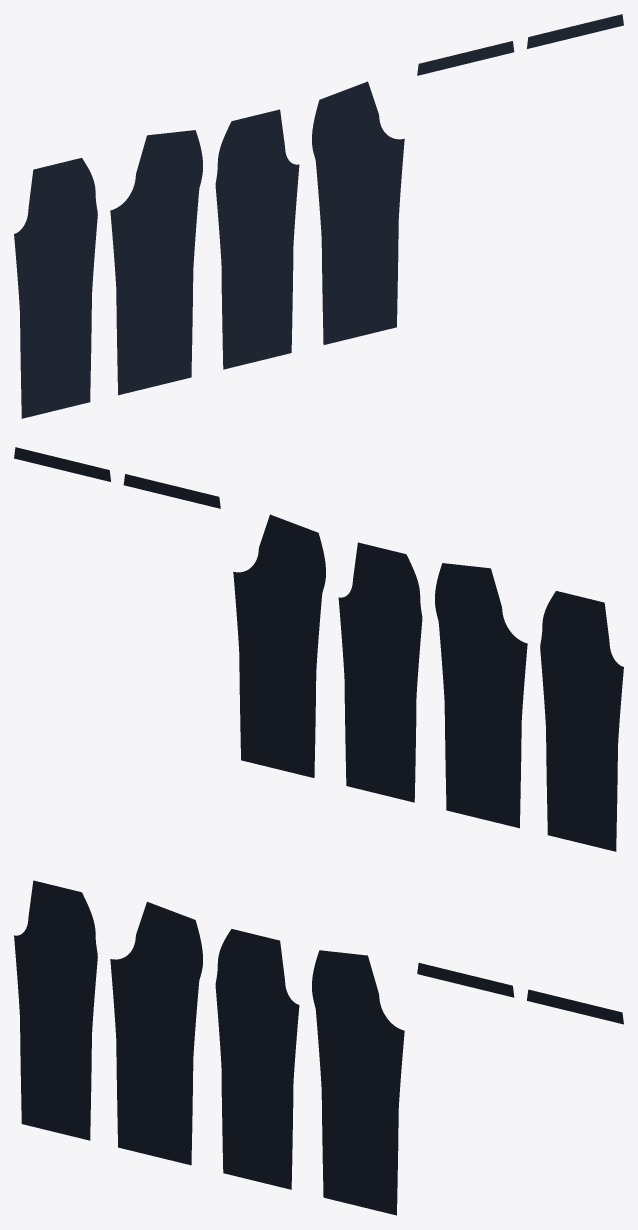
The model's file is jean-pierna-ancha-parche-talla-S.glb.
The picture shows the model from 3 angles, top to bottom: view 1: azimuth 30°, elevation 25°; view 2: azimuth 150°, elevation 25°; view 3: azimuth 330°, elevation 25°; orthographic projection.
Visible parts, largest first — view 1: patron-espalda-izq, patron-espalda-der, patron-delantero-der, patron-delantero-izq, patron-pretina-delantera, patron-pretina-trasera; view 2: patron-espalda-izq, patron-espalda-der, patron-delantero-der, patron-delantero-izq, patron-pretina-delantera, patron-pretina-trasera; view 3: patron-espalda-der, patron-espalda-izq, patron-delantero-der, patron-delantero-izq, patron-pretina-trasera, patron-pretina-delantera.
Part boxes in pixels (bbox=[...]): patron-espalda-izq: bbox=[110, 130, 202, 395]; patron-espalda-der: bbox=[312, 81, 404, 344]; patron-delantero-der: bbox=[215, 109, 299, 369]; patron-delantero-izq: bbox=[14, 158, 97, 418]; patron-pretina-delantera: bbox=[417, 41, 514, 75]; patron-pretina-trasera: bbox=[527, 14, 623, 48]; patron-espalda-izq: bbox=[435, 563, 527, 828]; patron-espalda-der: bbox=[233, 514, 325, 777]; patron-delantero-der: bbox=[338, 542, 422, 802]; patron-delantero-izq: bbox=[540, 591, 623, 851]; patron-pretina-delantera: bbox=[123, 474, 220, 508]; patron-pretina-trasera: bbox=[14, 447, 110, 481]; patron-espalda-der: bbox=[312, 950, 404, 1215]; patron-espalda-izq: bbox=[110, 901, 202, 1165]; patron-delantero-der: bbox=[215, 929, 299, 1189]; patron-delantero-izq: bbox=[14, 880, 97, 1140]; patron-pretina-trasera: bbox=[527, 989, 623, 1024]; patron-pretina-delantera: bbox=[417, 963, 514, 997].
Bounding box in the file's own units: 2.45 × 0.99 × 0.
